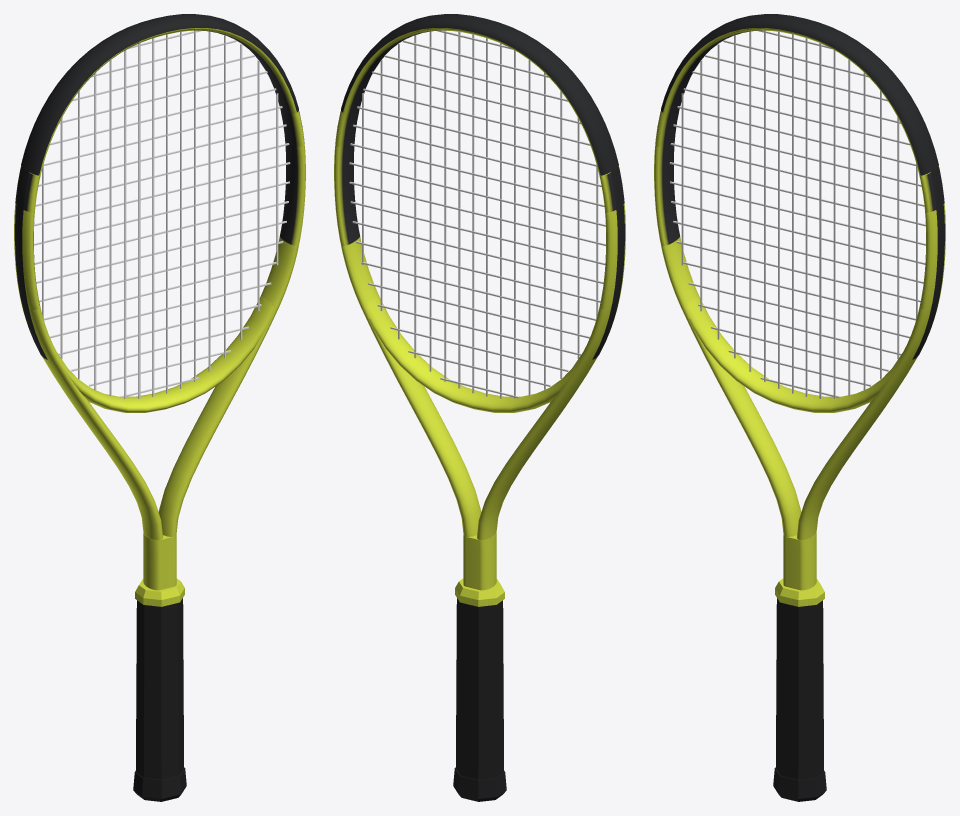
The model's file is dunlop-sx-300-tour-2022.glb.
3 renders of one model, left to right at view 1: azimuth 30°, elevation 25°; view 2: azimuth 150°, elevation 25°; view 3: azimuth 330°, elevation 25°, orthographic.
Parts seen in each view (by area): view 1: frame, strings_mains, strings_crosses, grip, bumper, grommets, butt_cap, collar; view 2: frame, strings_mains, strings_crosses, grip, bumper, grommets, butt_cap, collar; view 3: frame, strings_mains, strings_crosses, grip, bumper, grommets, butt_cap, collar.
Part boxes in pixels (x1,y1,x2,y2): frame: (14, 28, 305, 590); strings_mains: (42, 30, 278, 398); strings_crosses: (34, 30, 290, 397); grip: (136, 598, 183, 779); bumper: (21, 14, 298, 175); grommets: (15, 167, 47, 359); butt_cap: (133, 767, 186, 801); collar: (135, 578, 184, 606); frame: (334, 28, 625, 590); strings_mains: (362, 30, 598, 398); strings_crosses: (349, 30, 605, 398); grip: (456, 598, 503, 779); bumper: (341, 14, 618, 175); grommets: (592, 167, 624, 359); butt_cap: (453, 767, 506, 801); collar: (455, 578, 504, 606); frame: (654, 28, 945, 590); strings_mains: (681, 30, 917, 398); strings_crosses: (669, 30, 925, 397); grip: (776, 598, 823, 779); bumper: (661, 14, 938, 175); grommets: (912, 167, 944, 359); butt_cap: (773, 767, 826, 801); collar: (775, 578, 824, 606).
Bounding box in the file's own units: 0.2644 × 0.6861 × 0.0377.
